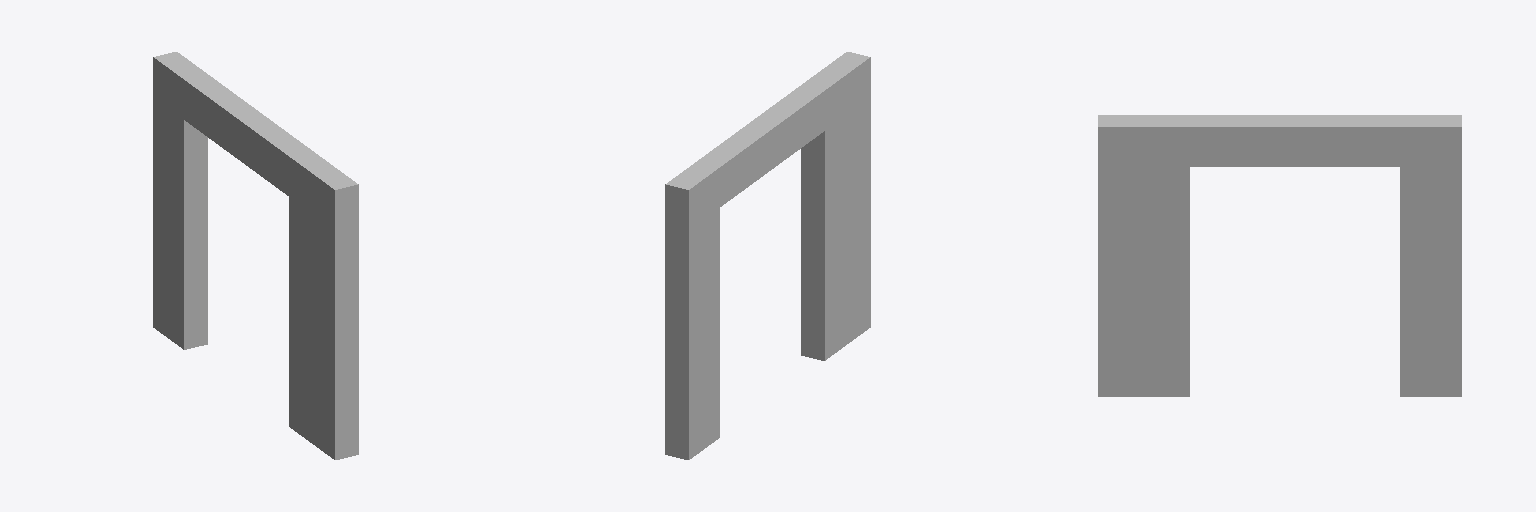
Rendered from Resources_Env_RoomTest_03.obj.
The picture shows the model from 3 angles: view 1: azimuth 30°, elevation 25°; view 2: azimuth 150°, elevation 25°; view 3: azimuth 270°, elevation 25°; orthographic projection.
Parts seen in each view (by area): view 1: Mesh1 Wall_Balcony1 Model; view 2: Mesh1 Wall_Balcony1 Model; view 3: Mesh1 Wall_Balcony1 Model.
Boxes of the visible parts, x1,y1,x2,y2 form: Mesh1 Wall_Balcony1 Model: [153, 52, 358, 459]; Mesh1 Wall_Balcony1 Model: [665, 52, 870, 459]; Mesh1 Wall_Balcony1 Model: [1098, 115, 1461, 396].
Bounding box in the file's own units: 0.25 × 2.75 × 3.35.